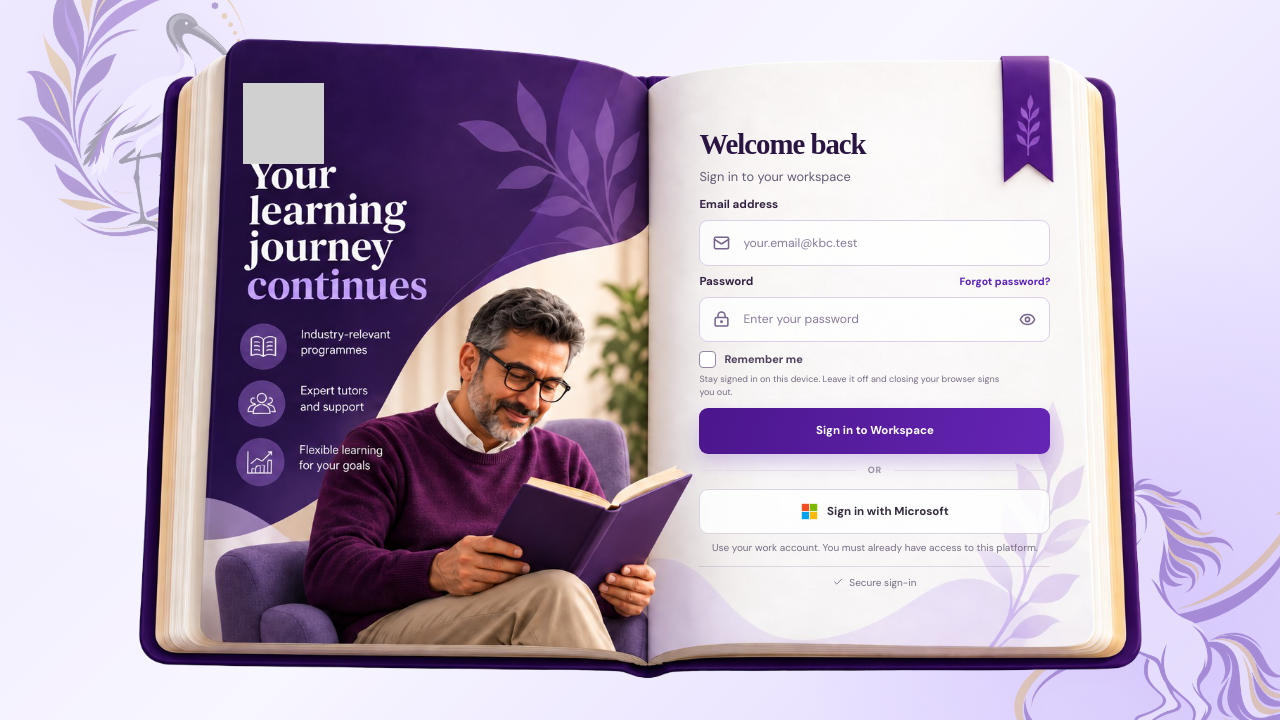
it: forwards only the fixed lecture feedback intent to Microsoft sign-in
The width and height of the screenshot is (1280, 720).
Click the button "Sign in with Microsoft" at (875, 512), box [699,489,1050,534]
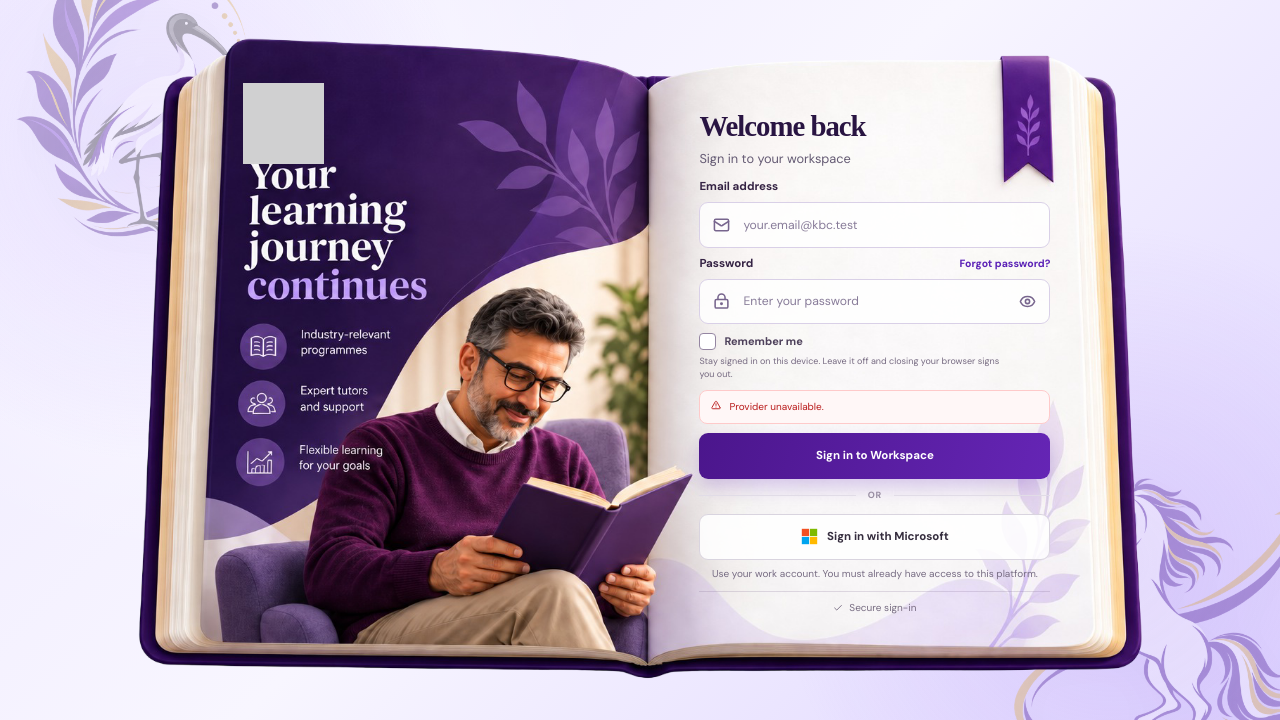
Now the text "Provider unavailable." is shown, box [729,400,824,414]
